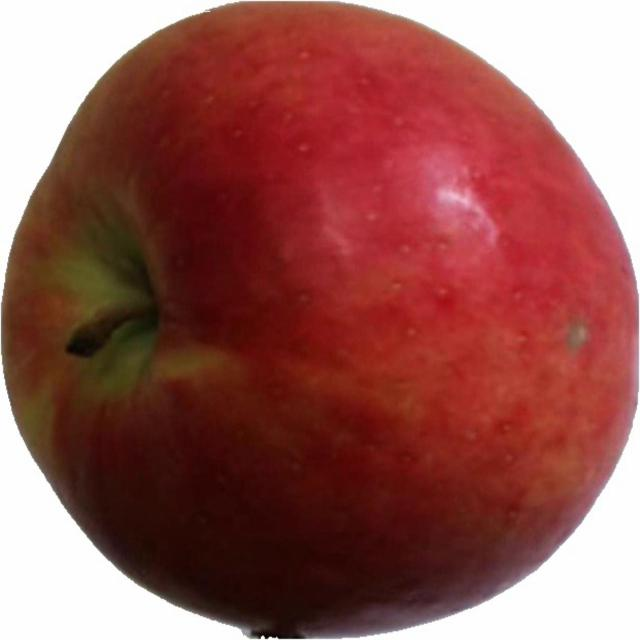apple: (2, 0, 639, 638)
